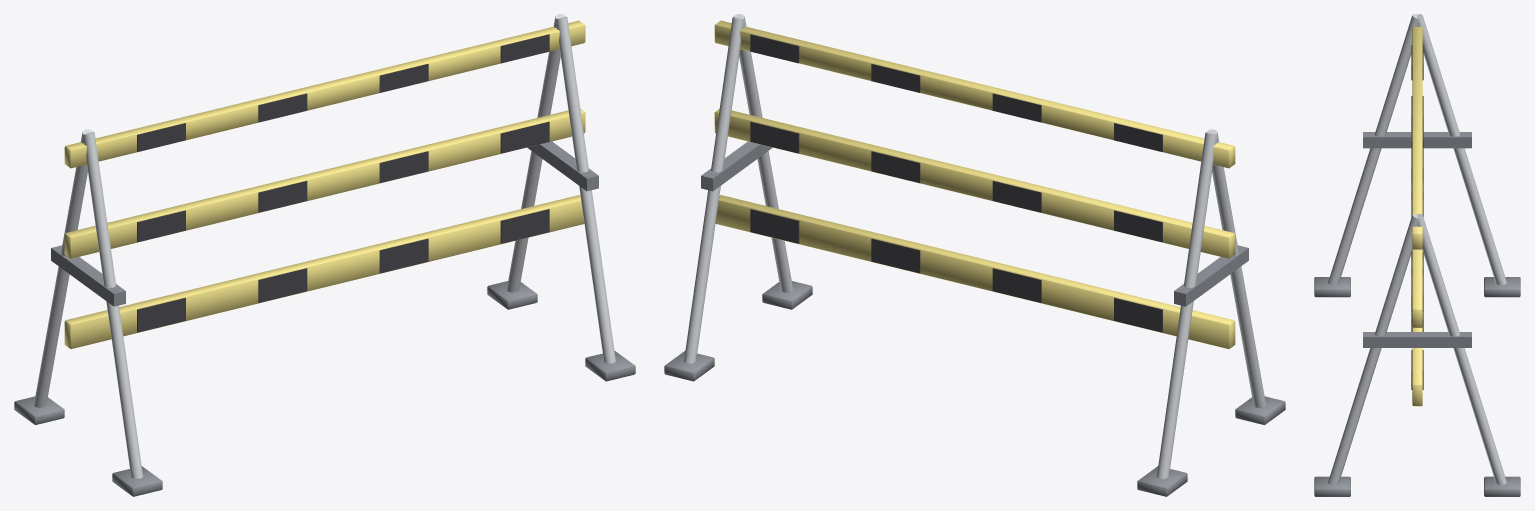
Rendered from Barrier_Sawhorse.fbx.
The picture shows the model from 3 angles, left to right: view 1: azimuth 30°, elevation 25°; view 2: azimuth 150°, elevation 25°; view 3: azimuth 270°, elevation 25°; orthographic projection. The views are drawn at different scales.
Visible parts, largest first — view 1: LOD0; view 2: LOD0; view 3: LOD0.
Boxes of the visible parts, x1=… form: LOD0: x1=14, y1=14, x2=635, y2=496; LOD0: x1=664, y1=14, x2=1285, y2=496; LOD0: x1=1314, y1=14, x2=1520, y2=496.
Size of what is drawn, in the model's own units: 170 by 100 by 68.
